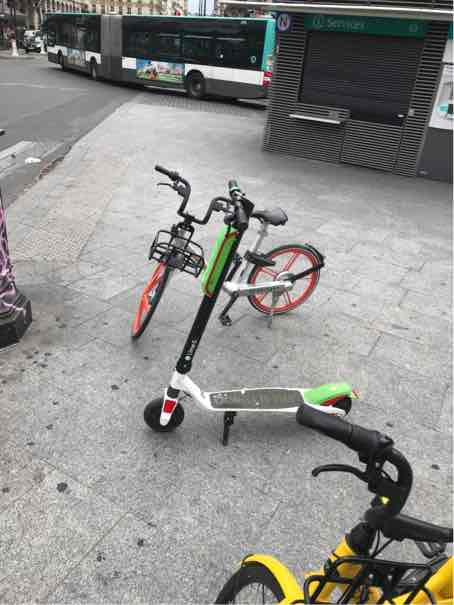scooter: (142, 169, 363, 451)
